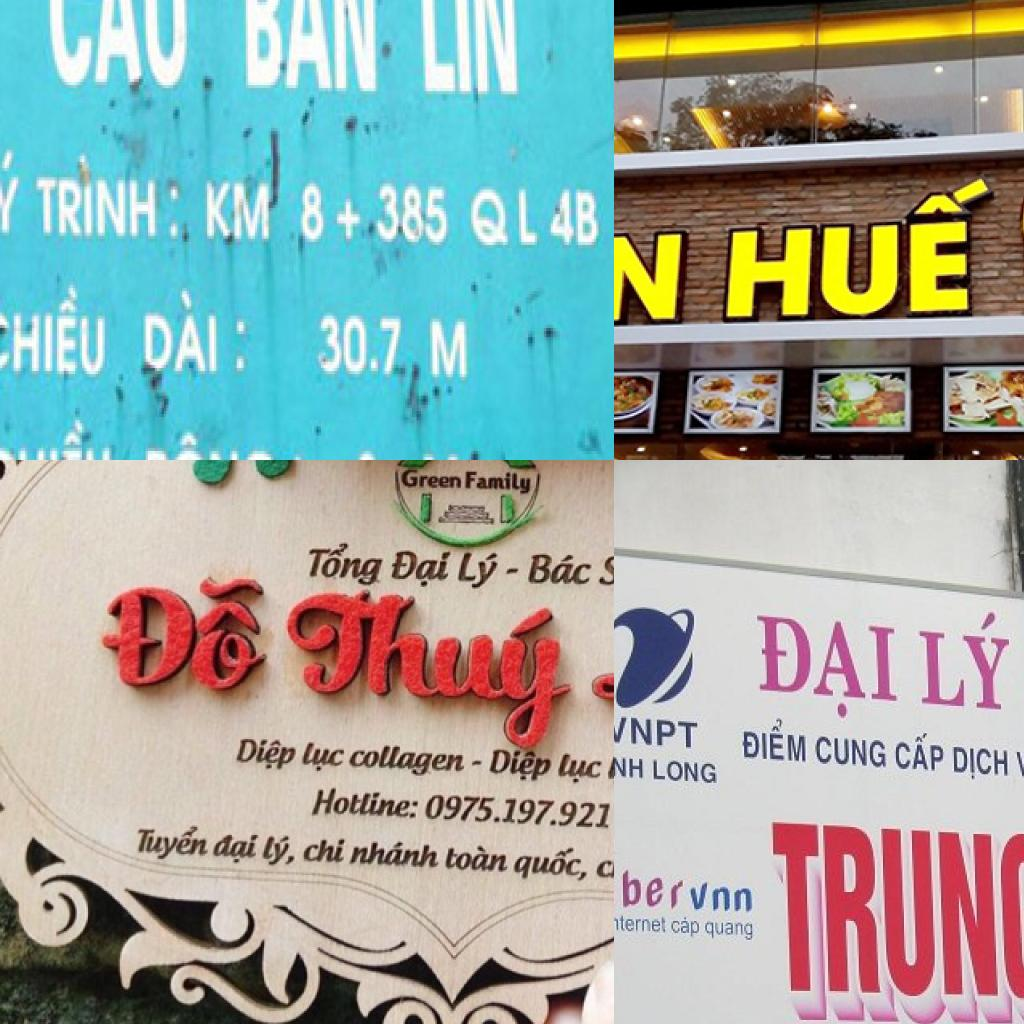text: (766, 817, 1024, 1024), (278, 580, 578, 754), (718, 177, 996, 327), (98, 562, 270, 702), (750, 609, 902, 723), (45, 0, 202, 103), (234, 0, 391, 103), (32, 153, 187, 248), (0, 278, 116, 389), (412, 0, 528, 109), (137, 285, 257, 383), (916, 604, 1016, 714), (614, 847, 761, 919), (614, 209, 690, 331), (424, 791, 614, 833), (314, 304, 410, 386), (469, 174, 546, 257), (202, 168, 278, 248), (373, 174, 453, 248), (141, 426, 314, 460), (0, 411, 120, 460), (346, 741, 468, 779), (421, 306, 476, 390), (309, 784, 421, 825), (548, 180, 608, 251), (304, 539, 389, 585), (130, 821, 212, 867), (349, 835, 443, 873), (741, 716, 809, 766), (614, 714, 702, 752), (510, 843, 592, 883), (230, 732, 301, 778), (523, 550, 597, 590), (0, 143, 29, 241), (389, 547, 454, 590), (814, 732, 886, 769), (485, 749, 555, 787), (894, 730, 948, 776), (298, 174, 330, 248), (952, 744, 1012, 781), (442, 842, 510, 874), (454, 548, 506, 588), (298, 736, 350, 776), (210, 829, 262, 867), (334, 187, 366, 248), (462, 472, 534, 499), (554, 754, 604, 788), (259, 829, 298, 867), (704, 916, 755, 945), (301, 835, 349, 864), (400, 470, 462, 490), (614, 747, 645, 783), (614, 917, 669, 934), (593, 846, 614, 887), (668, 918, 701, 943), (593, 551, 614, 590), (348, 439, 386, 460), (1015, 747, 1024, 788)
